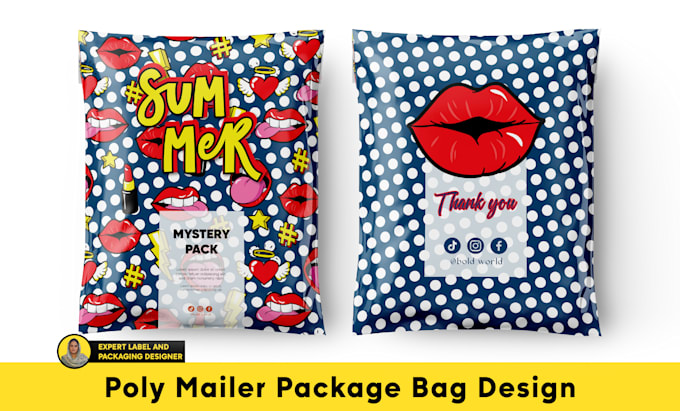Parcel: (78, 30, 326, 336), (353, 29, 600, 336)
